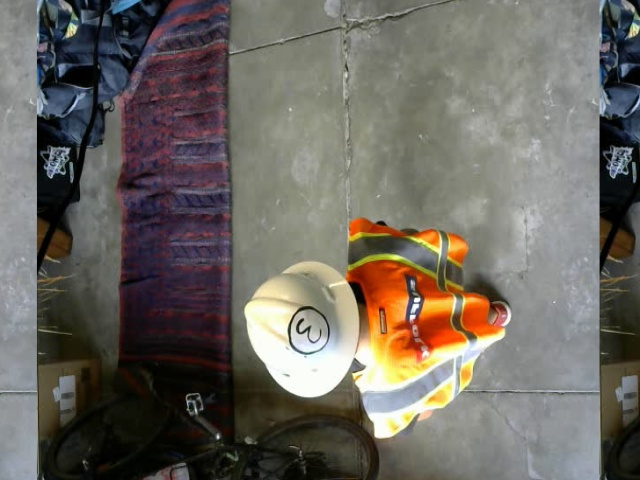three: (286, 305, 329, 354)
